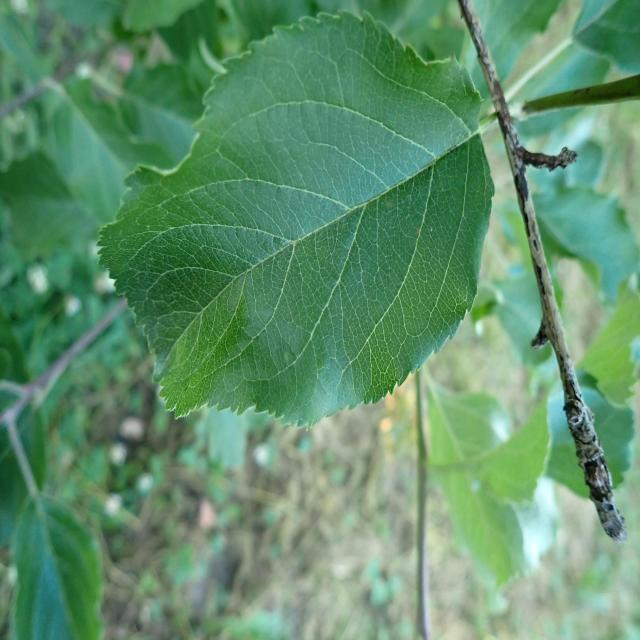healthy: (95, 9, 495, 432)
